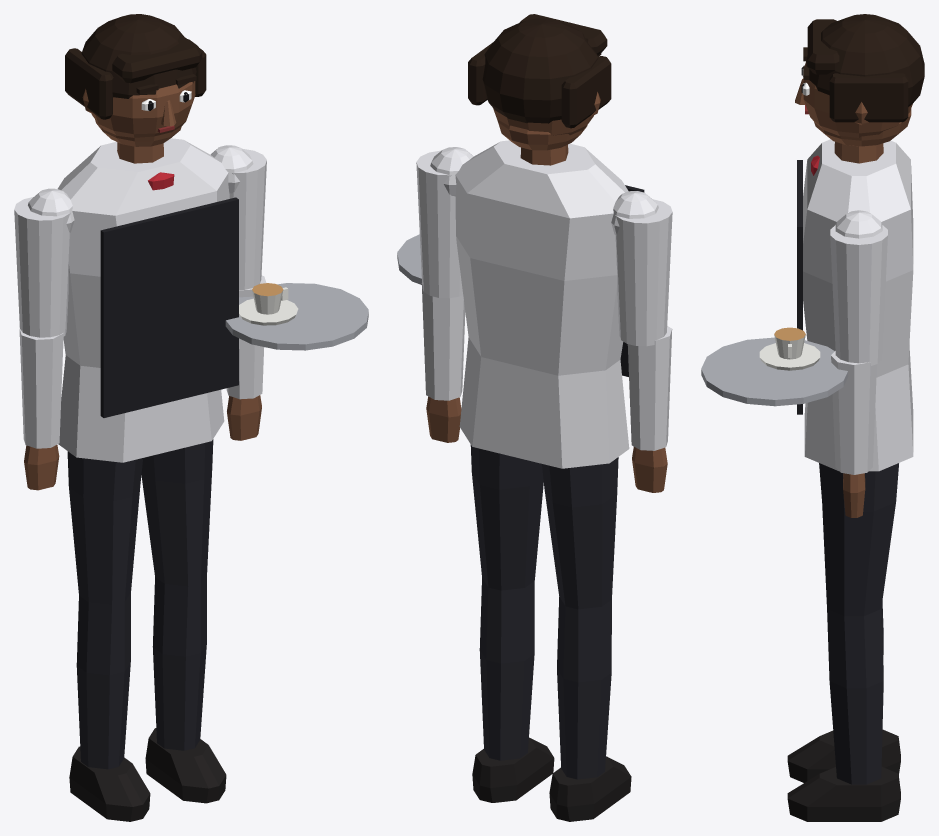
Rendered from waiter.obj.
3 views of the same model, side by side, from view 1: azimuth 30°, elevation 25°; view 2: azimuth 150°, elevation 25°; view 3: azimuth 270°, elevation 25° (orthographic).
Visible parts, largest first — view 1: waiter; view 2: waiter; view 3: waiter.
Boxes of the visible parts, left/top/right/bottom form: waiter: left=14, top=14, right=368, bottom=821; waiter: left=397, top=14, right=672, bottom=821; waiter: left=701, top=14, right=924, bottom=821.
Size of the model in its own units: 0.71 by 1.73 by 0.4531.
